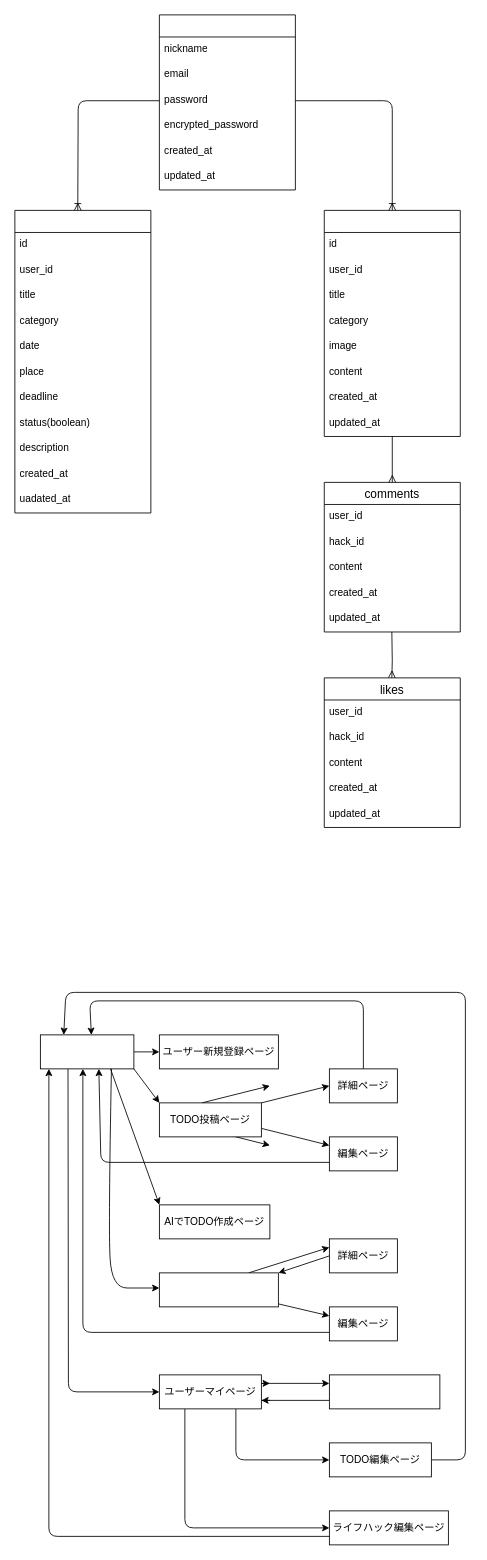
This 487x1560 diagram has some shape labels left out. The shapes that lost their labels are listed below. From the top down, each one's box as (x1, y1, x2, y2) in pixels, then its label:
(159, 14, 295, 190): users
(323, 210, 460, 436): posts(lifehack)
(14, 210, 151, 513): posts(todo)
(40, 1034, 134, 1069): 一覧ページ
(159, 1272, 278, 1307): ライフハック投稿ページ
(329, 1374, 440, 1409): アカウント編集ページ
